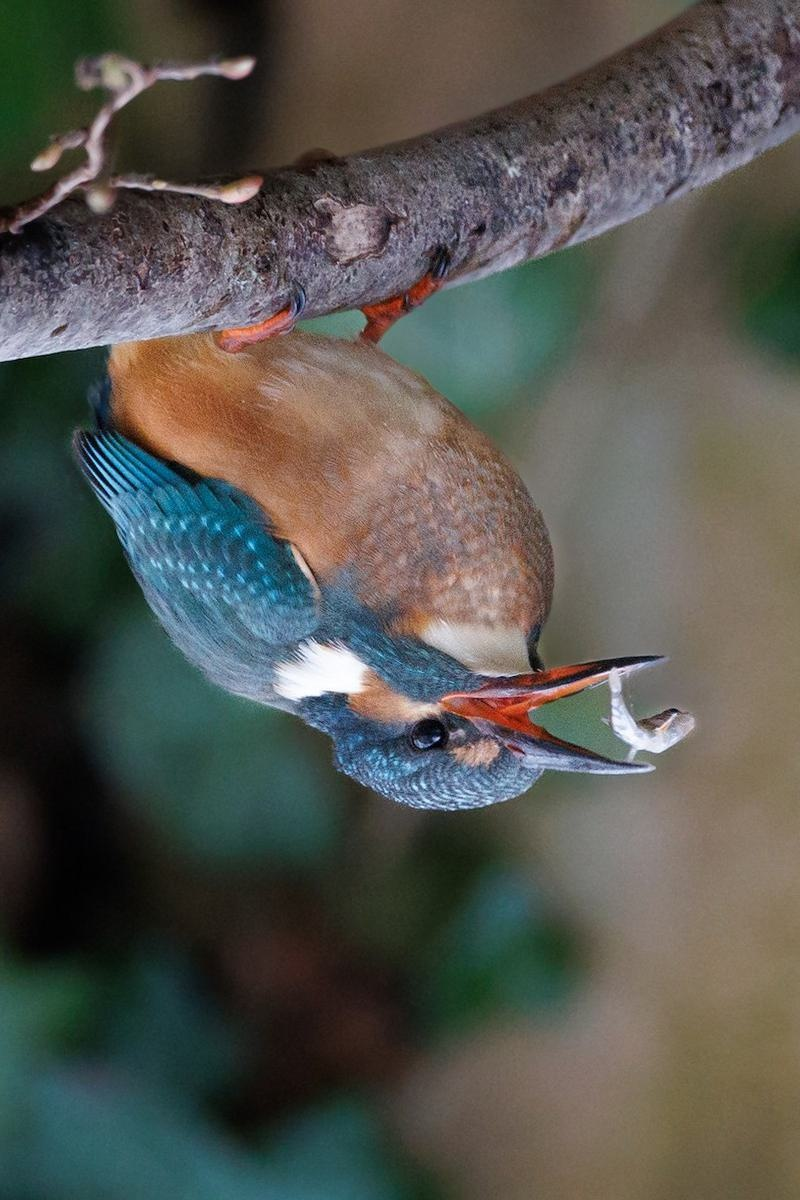kingfisher: (54, 259, 680, 843)
